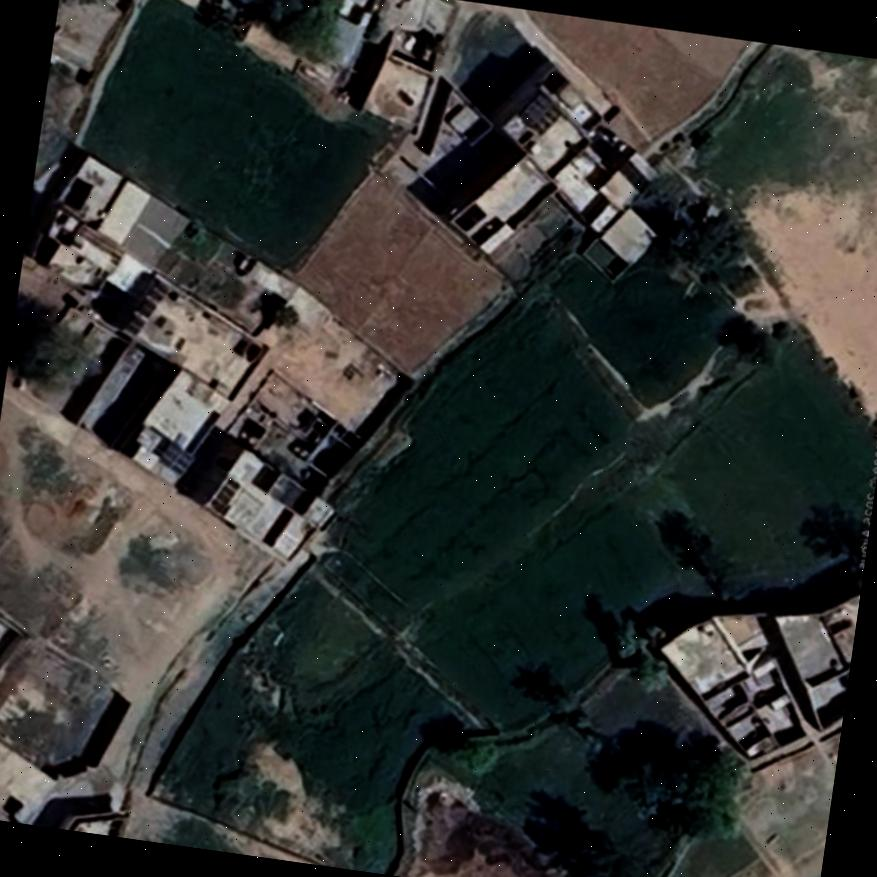Solarpanel: (160, 439, 192, 475)
